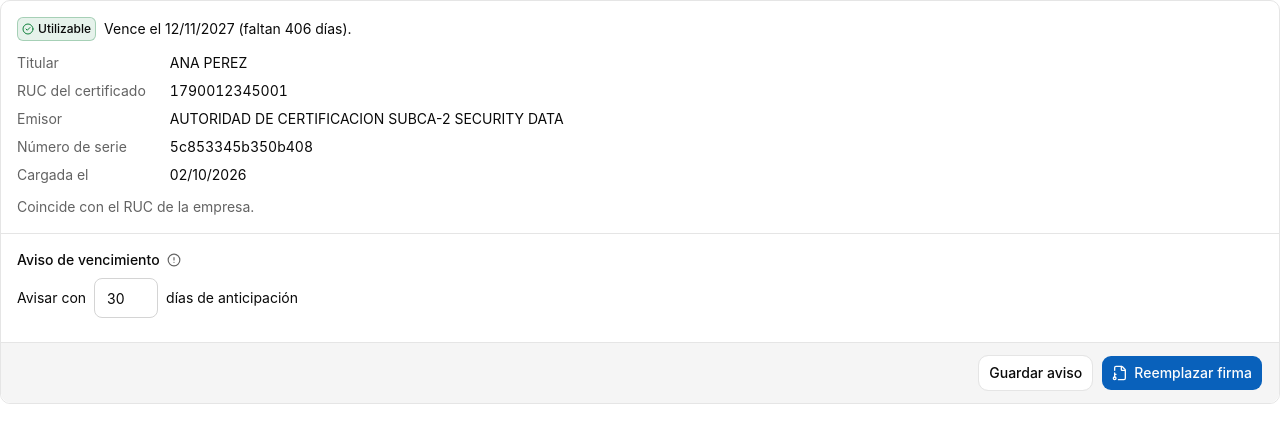
Test: Firma electrónica (design D14) › sin cambios en el aviso lo dice y no envía nada
This screenshot has width=1280, height=437.
Check: the button "Reemplazar firma" is shown, box [1101,355,1263,391]
Click the button "Guardar aviso": {"x": 1036, "y": 373} [978,355,1093,391]
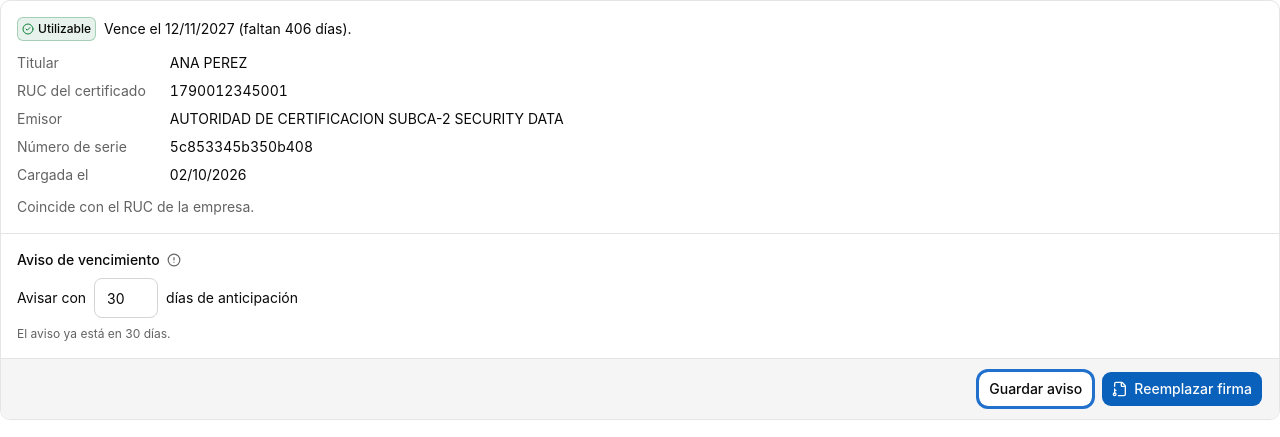
Check: the text "El aviso ya está en 30 días." is shown, box [17,326,170,341]
